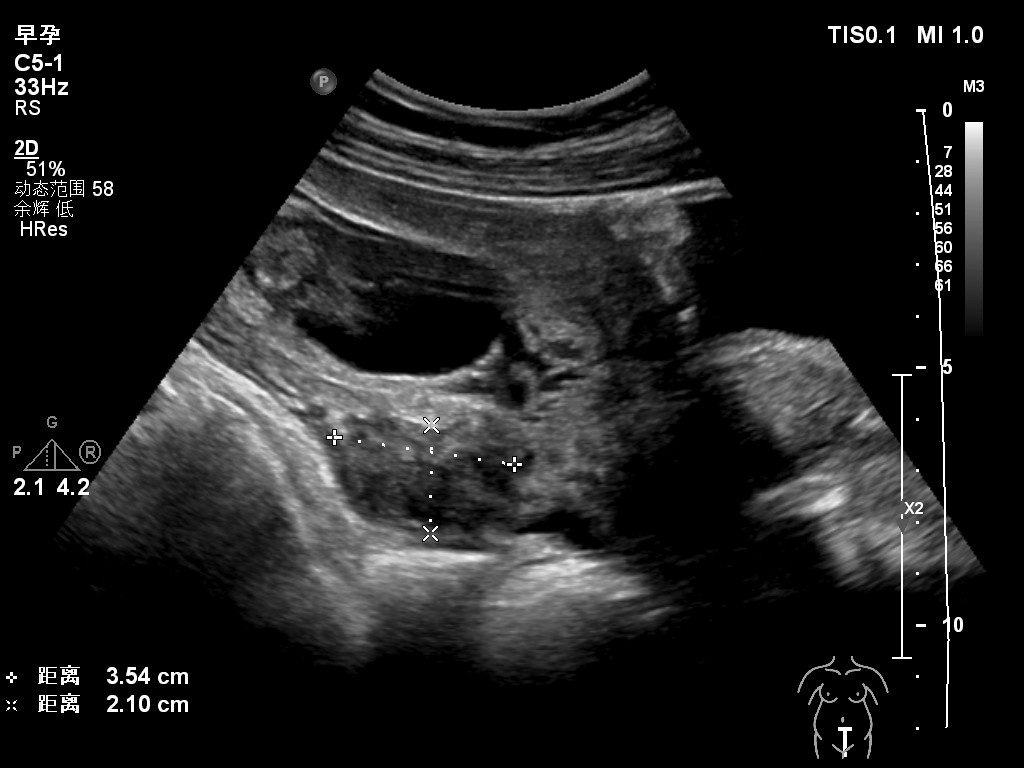肌瘤: (340, 422, 511, 527)
